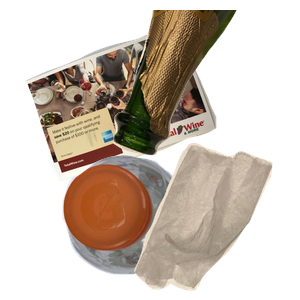glass: (111, 10, 300, 158)
paper: (23, 24, 232, 199)
plastic: (60, 152, 237, 300)
trash: (132, 140, 300, 300)
